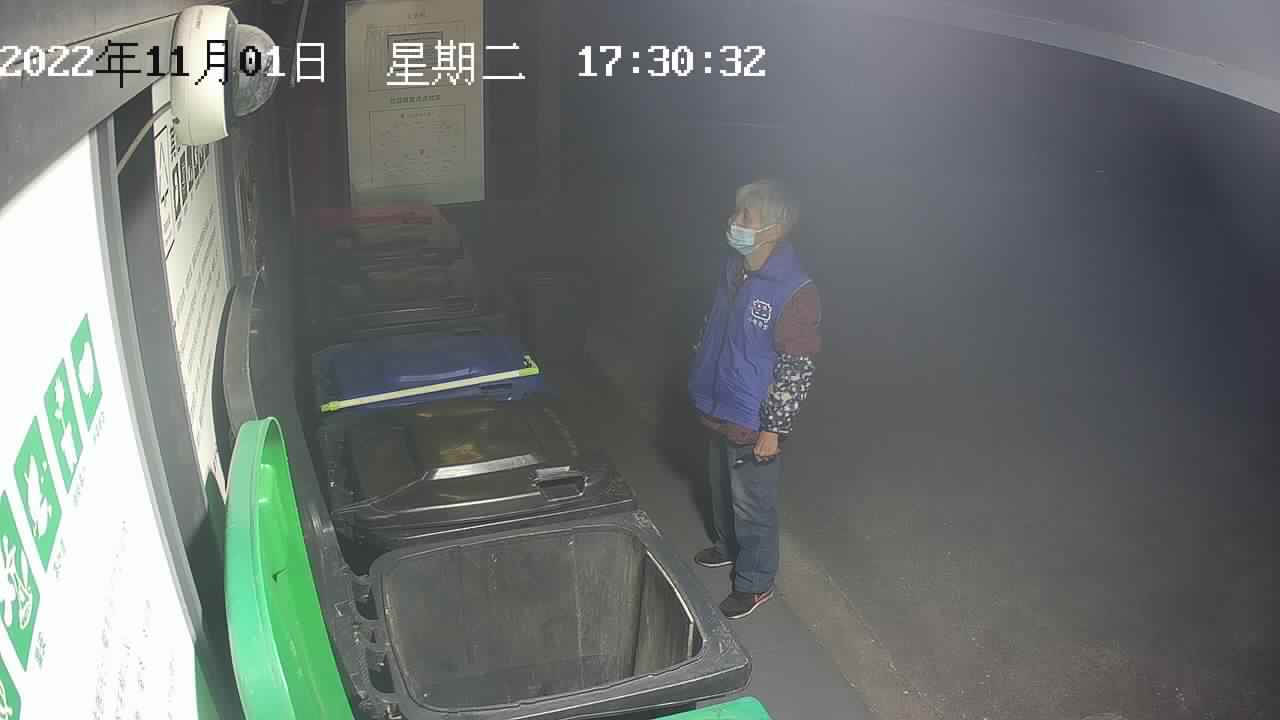worker: (684, 176, 822, 621)
